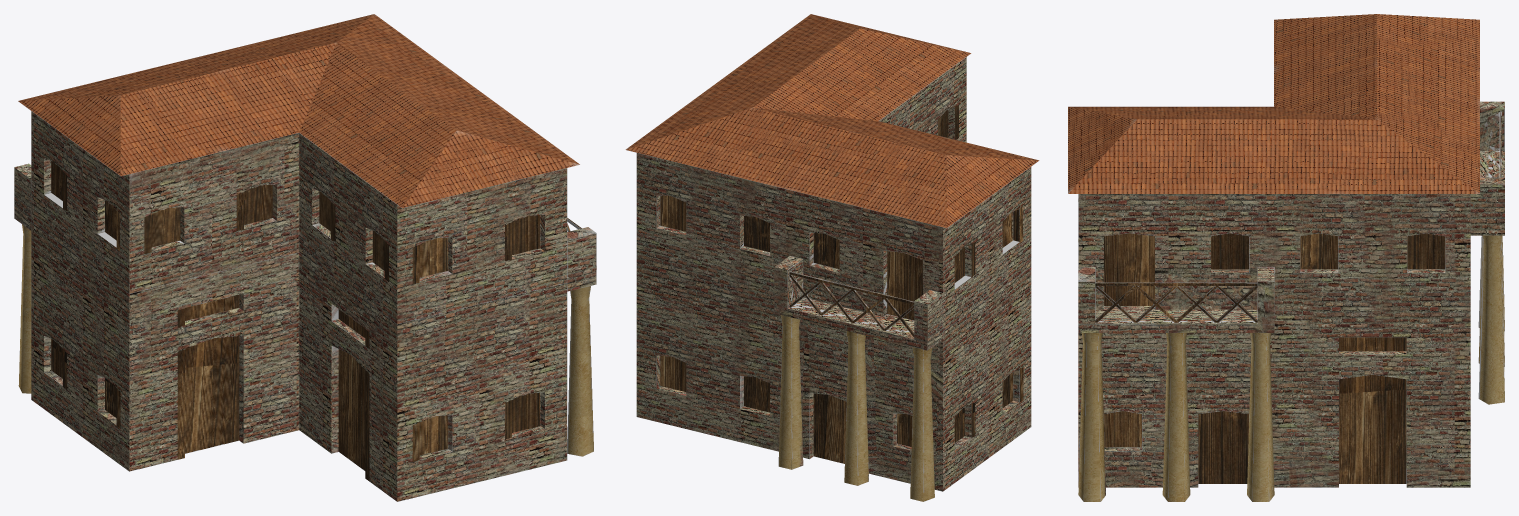
The model's file is villa3.fbx.
3 renders of one model, left to right at view 1: azimuth 30°, elevation 25°; view 2: azimuth 150°, elevation 25°; view 3: azimuth 270°, elevation 25°, orthographic. The views are drawn at different scales.
Parts seen in each view (by area): view 1: insula4_0; view 2: insula4_0; view 3: insula4_0.
Boxes of the visible parts, <box> form: insula4_0: <box>14,14,596,501</box>; insula4_0: <box>625,14,1039,501</box>; insula4_0: <box>1068,14,1504,501</box>.
Bounding box in the file's own units: 64.02 × 53.13 × 64.02.
Materials: 1 (1 with a texture image).
